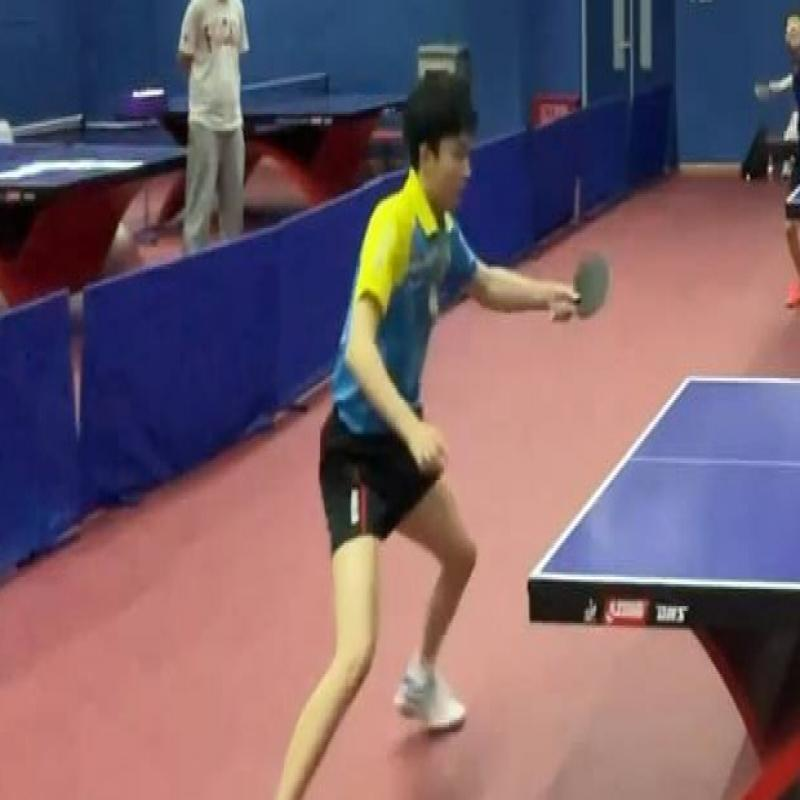bats: (552, 240, 617, 337)
